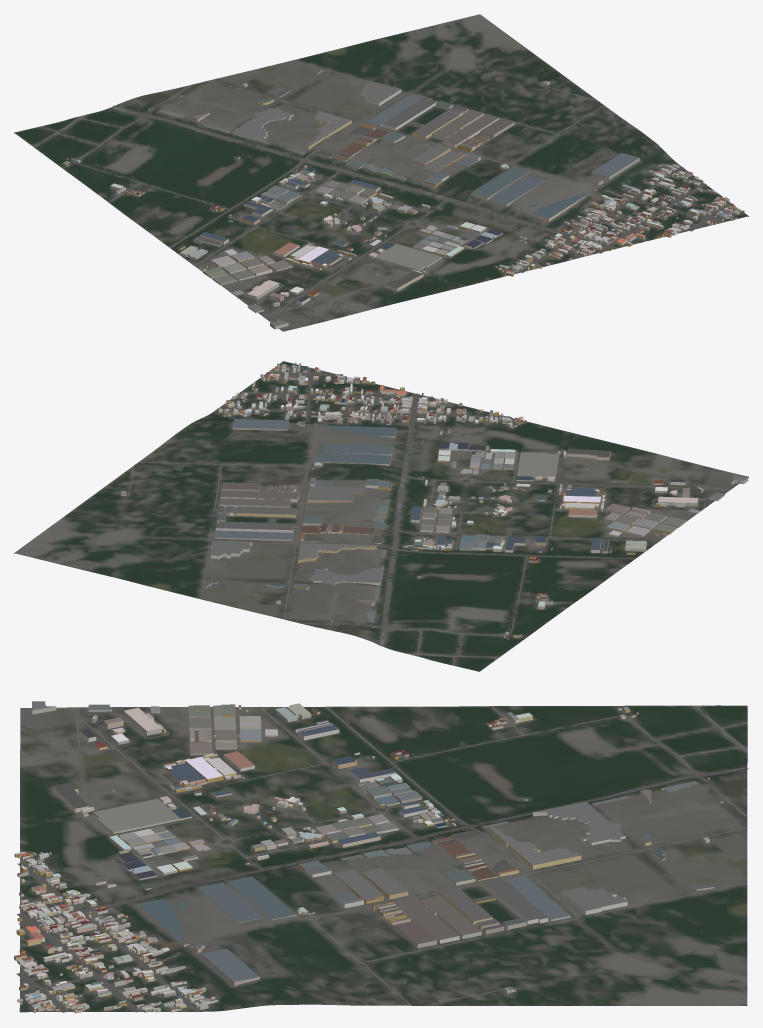
The picture shows the model from 3 angles, top to bottom: view 1: azimuth 30°, elevation 25°; view 2: azimuth 150°, elevation 25°; view 3: azimuth 270°, elevation 25°; orthographic projection. The views are drawn at different scales.
Visible parts, largest first — view 1: ground, buildings, roads; view 2: ground, buildings, roads; view 3: ground, buildings, roads.
Boxes of the visible parts, <box> form: ground: <box>14,14,748,331</box>; buildings: <box>62,66,744,329</box>; roads: <box>30,60,733,315</box>; ground: <box>14,361,748,671</box>; buildings: <box>121,362,748,639</box>; roads: <box>128,367,727,665</box>; ground: <box>19,705,747,1012</box>; buildings: <box>14,701,722,1013</box>; roads: <box>16,705,748,1012</box>.
Size of the model in its own units: 1415 by 33.64 by 1415.
